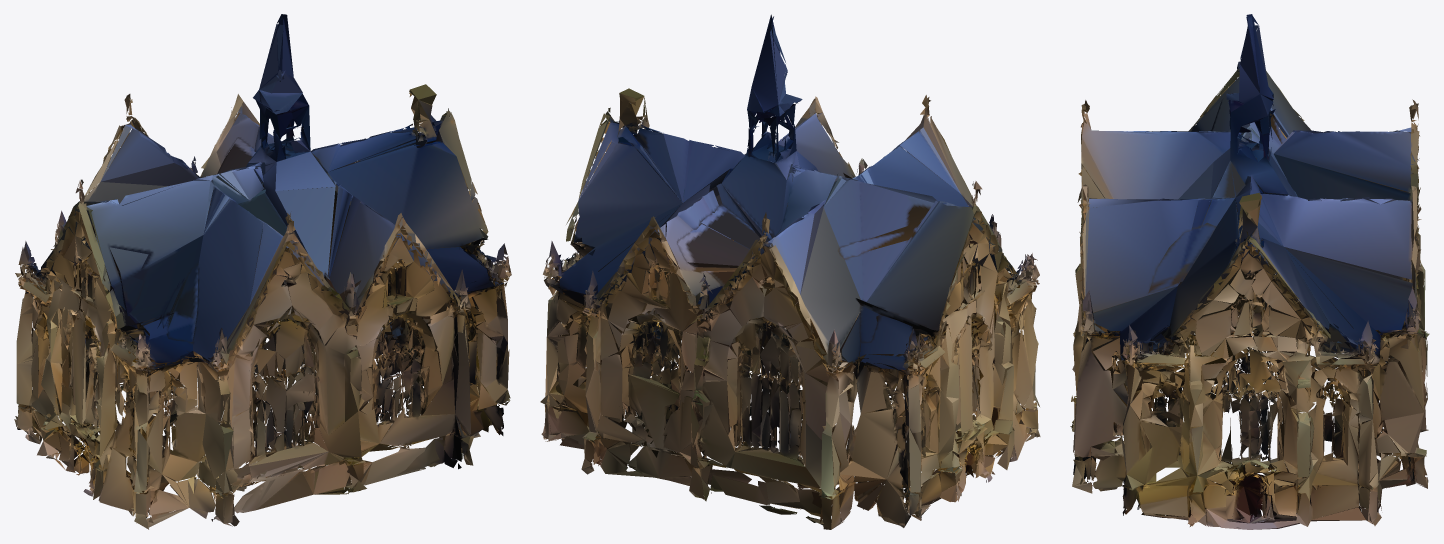
File: academy_hall.glb
3 views of the same model, side by side, from view 1: azimuth 30°, elevation 25°; view 2: azimuth 150°, elevation 25°; view 3: azimuth 270°, elevation 25° (orthographic). The views are drawn at different scales.
Visible parts, largest first — view 1: academy_hall_body; view 2: academy_hall_body; view 3: academy_hall_body.
Part boxes in pixels (x1,y1,x2,y2): academy_hall_body: [14, 14, 511, 529]; academy_hall_body: [540, 14, 1040, 529]; academy_hall_body: [1070, 14, 1429, 529].
Bounding box in the file's own units: 30.16 × 30.91 × 23.43.
Materials: 1 (1 with a texture image).
